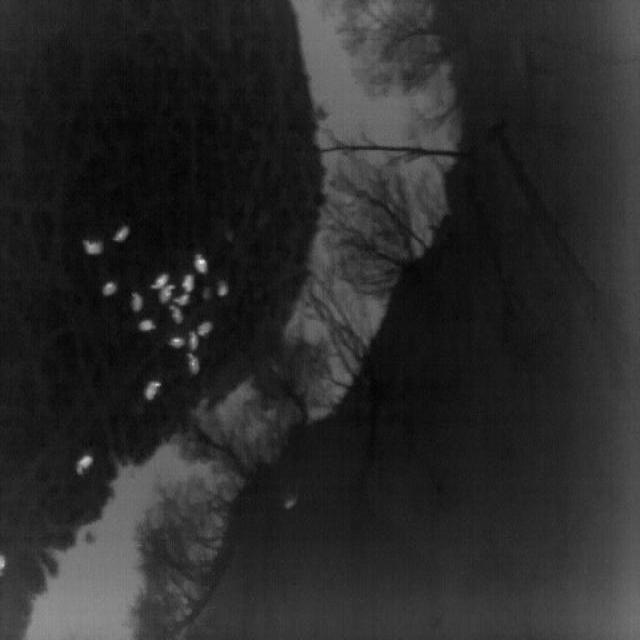deer: (75, 456, 93, 476), (150, 273, 170, 291), (159, 284, 176, 305), (82, 239, 104, 255), (144, 381, 162, 400), (112, 226, 130, 243), (187, 353, 200, 376), (198, 320, 215, 337), (193, 254, 208, 273), (169, 306, 184, 324), (172, 293, 192, 306), (130, 292, 143, 312), (101, 282, 118, 296), (138, 319, 156, 332), (182, 274, 195, 292), (188, 331, 199, 351), (169, 337, 185, 349), (217, 280, 228, 297), (0, 553, 8, 576), (284, 498, 298, 510)
